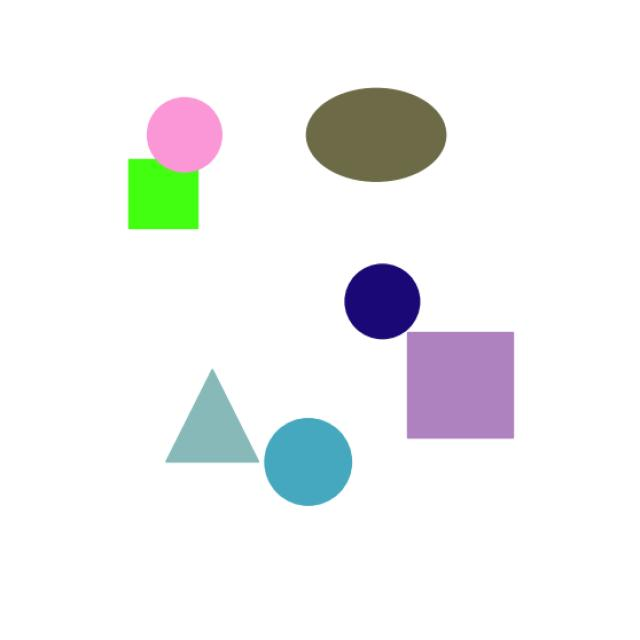Circle: (261, 410, 368, 510), (330, 253, 424, 349), (140, 94, 231, 176)
Triangle: (150, 358, 270, 482)
square: (401, 324, 542, 449)
